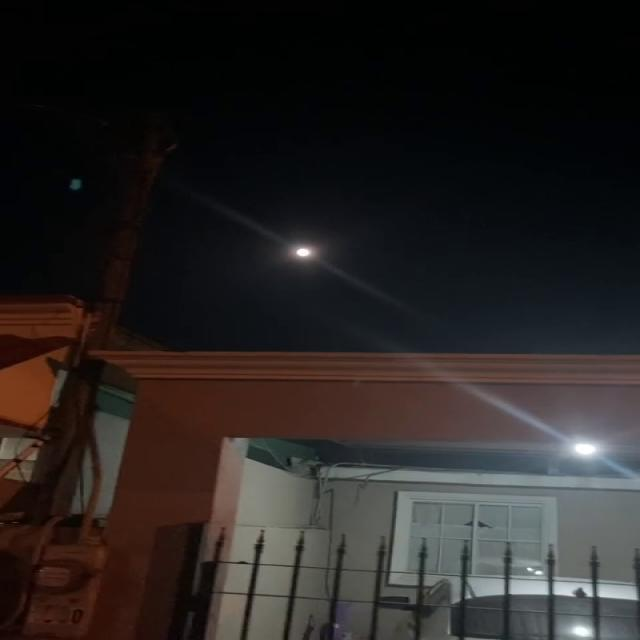moon: (288, 237, 322, 262)
